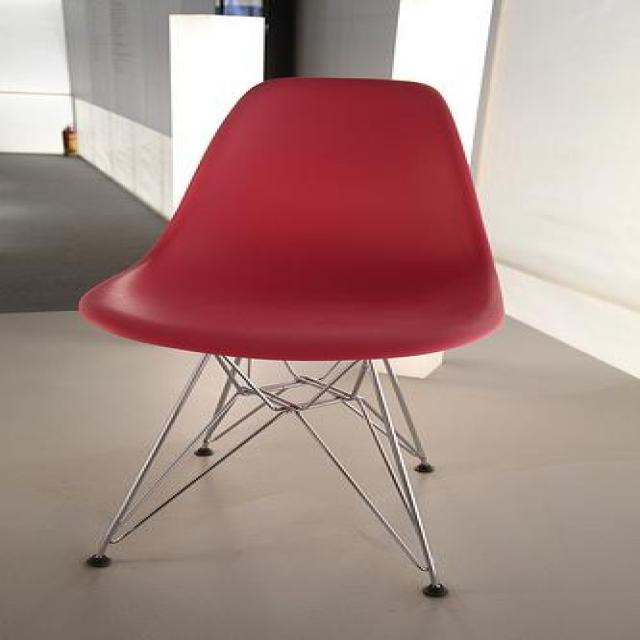chair: (77, 74, 505, 596)
